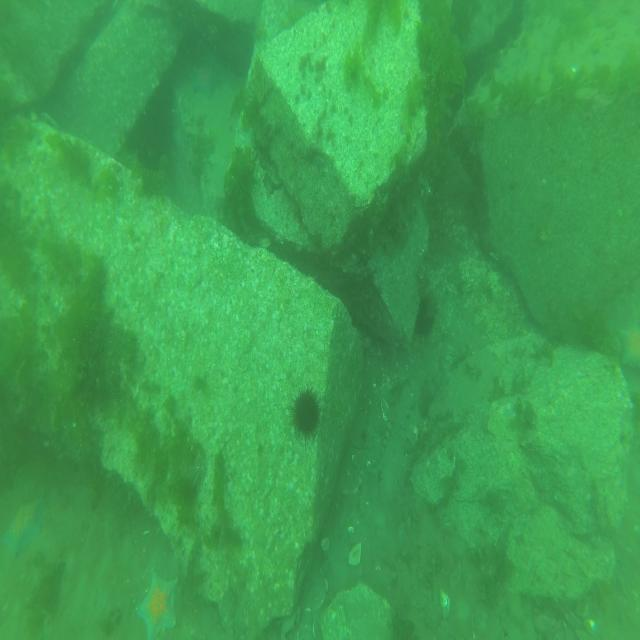echinus: (288, 383, 324, 447), (413, 294, 436, 343)
starfish: (136, 568, 178, 640), (4, 495, 44, 559), (191, 60, 223, 103)
